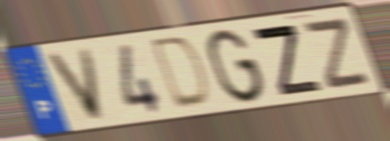4: (119, 40, 162, 117)
D: (149, 33, 215, 112)
G: (205, 27, 267, 106)
V: (42, 45, 108, 125)
Z: (247, 22, 326, 98), (302, 14, 374, 92)
